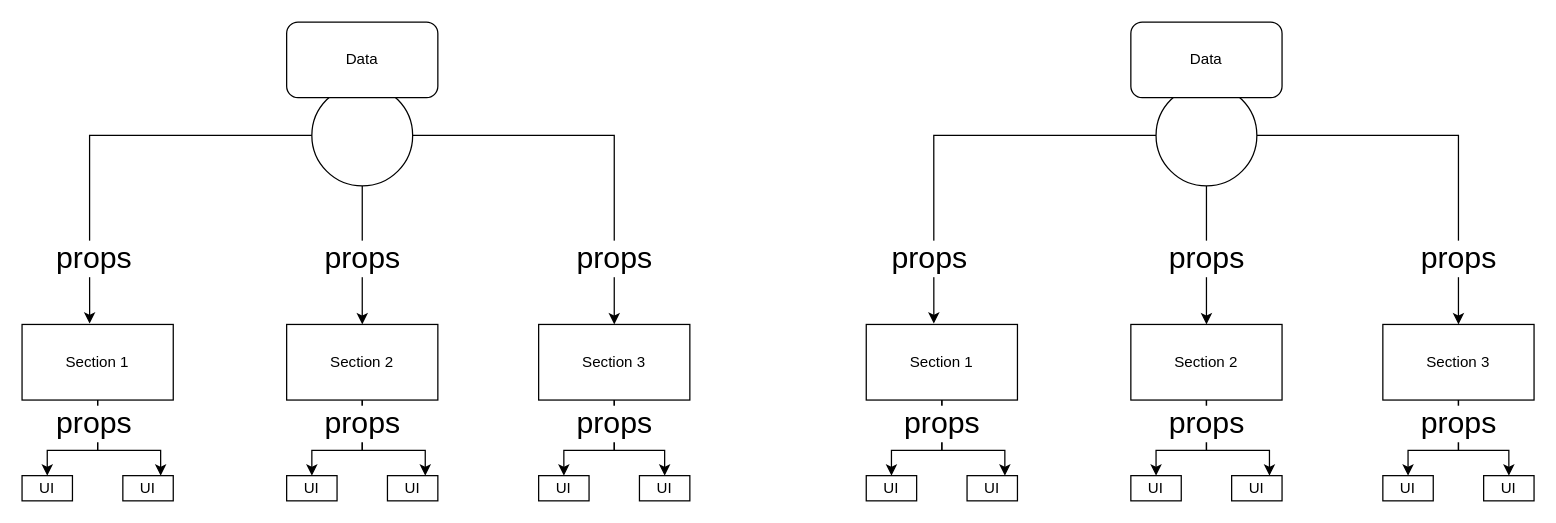
Some shapes in this 1556 by 523 pixel diagram are drawn without their labels. The shapes that lost their labels are listed below. From the top down, each one's box as (x1, y1, x2, y2) in pixels, then its label:
(311, 84, 413, 186): Page1
(1155, 84, 1257, 186): Page2
